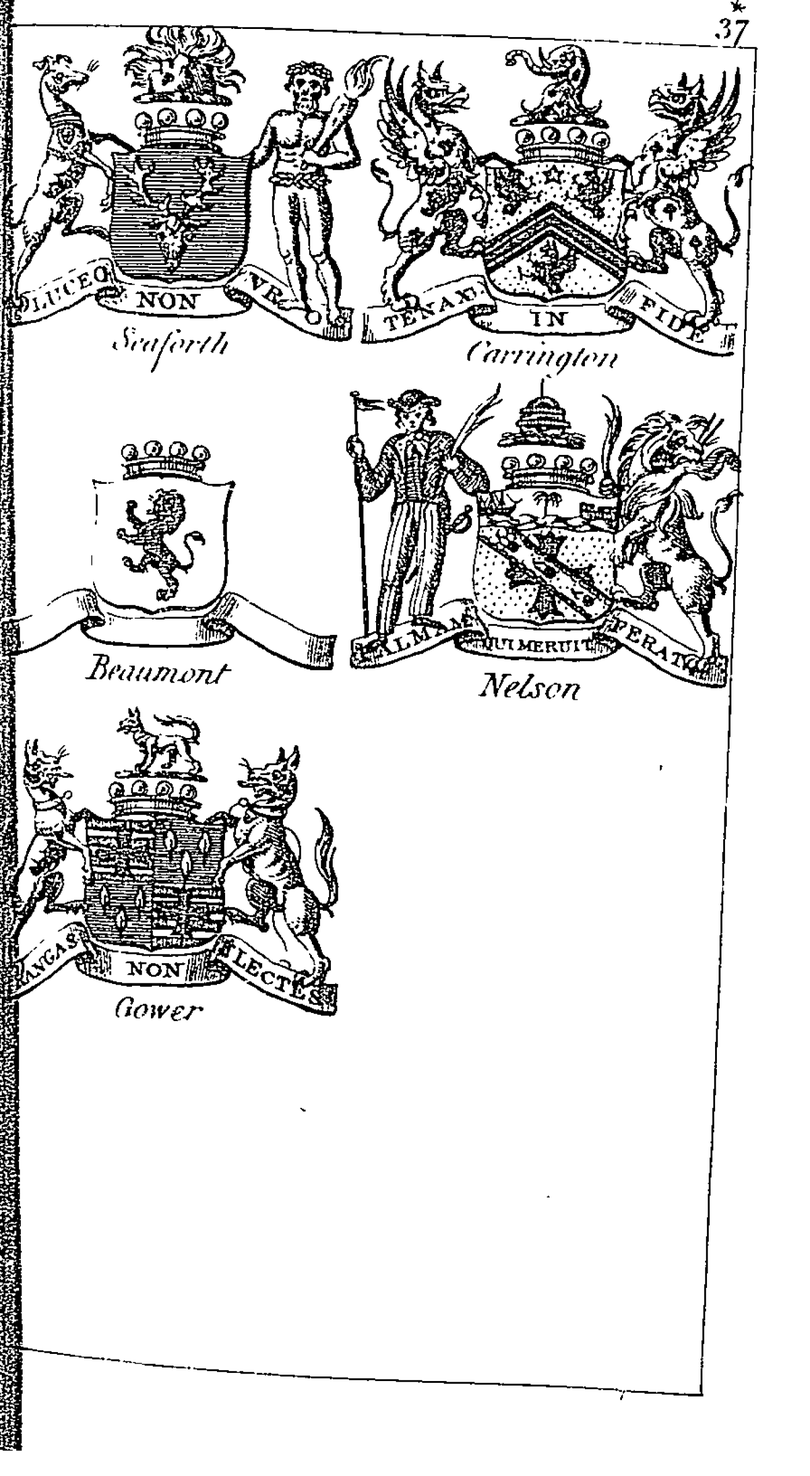coat_of_arms: (367, 44, 748, 385), (342, 376, 737, 701), (12, 28, 362, 355), (13, 707, 341, 1035), (12, 410, 347, 708)
